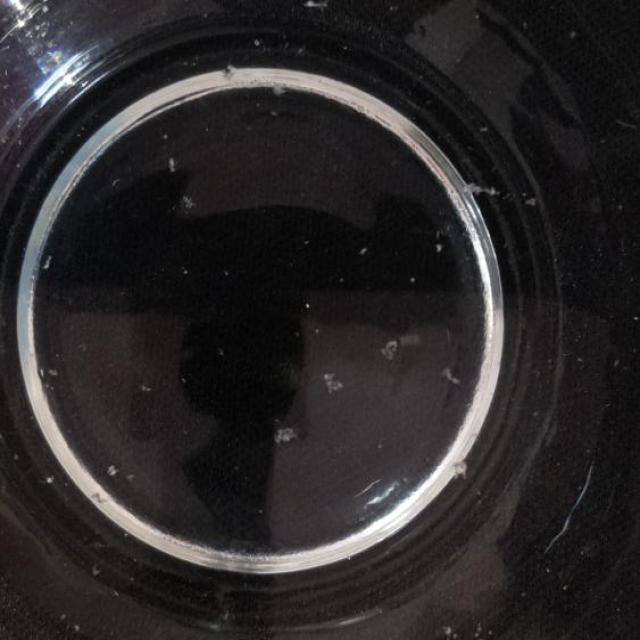fiber: (273, 416, 306, 448), (463, 178, 500, 202), (378, 332, 403, 366), (318, 363, 348, 390), (436, 366, 468, 386), (297, 0, 329, 19), (97, 457, 120, 482), (450, 458, 470, 484), (264, 84, 293, 101), (180, 194, 205, 212), (162, 150, 179, 176), (431, 232, 450, 255), (438, 624, 463, 640), (296, 295, 314, 317), (523, 188, 541, 208), (40, 248, 54, 270), (359, 239, 374, 258), (46, 365, 61, 378), (564, 27, 579, 40)
